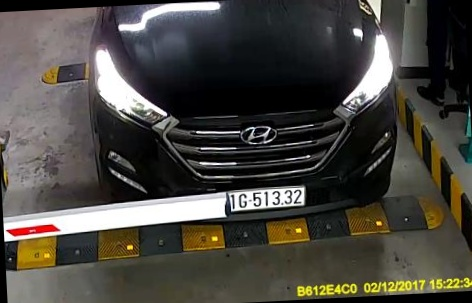plate: (220, 185, 310, 212)
